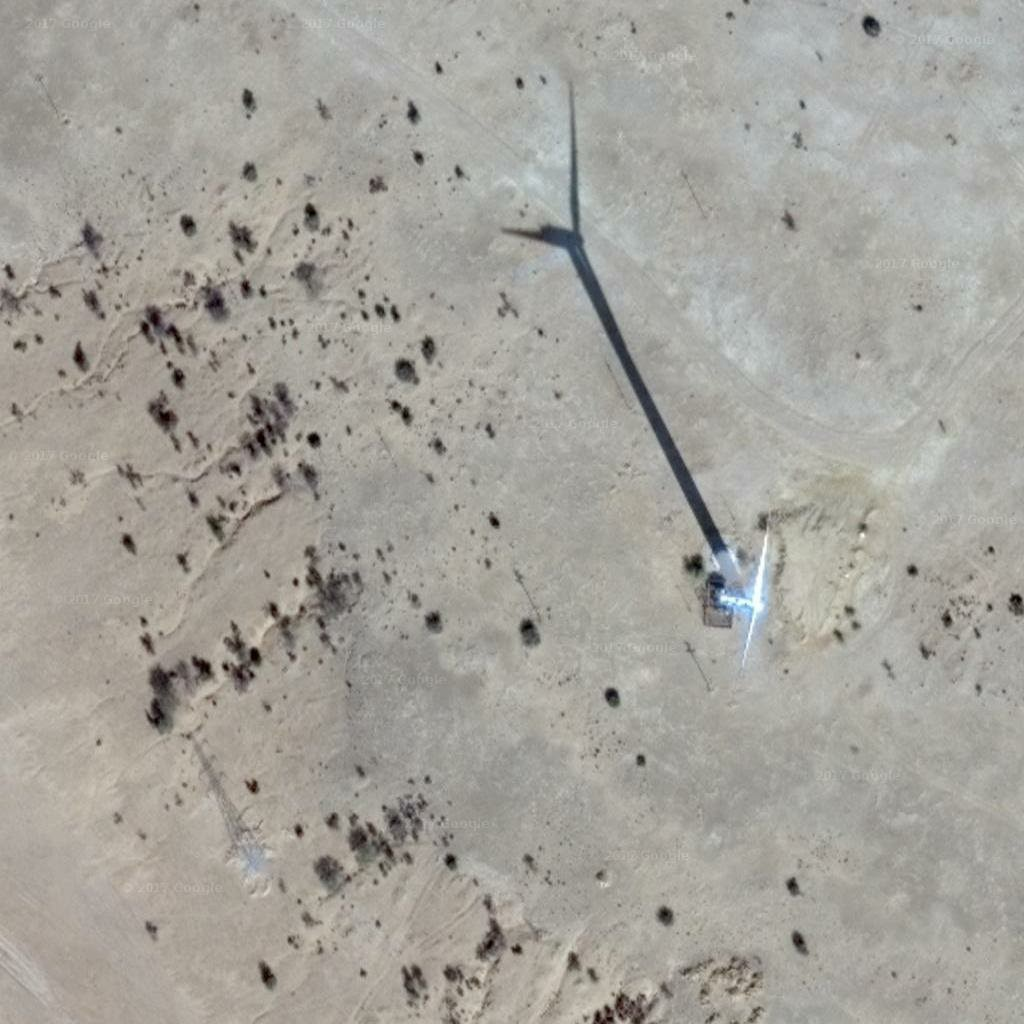Windmill: (478, 108, 736, 554)
